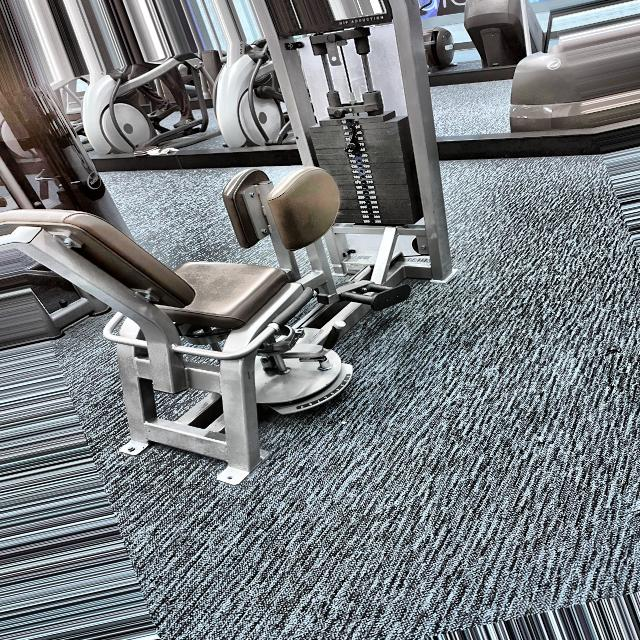hip_adduction_machine: (173, 158, 436, 444)
